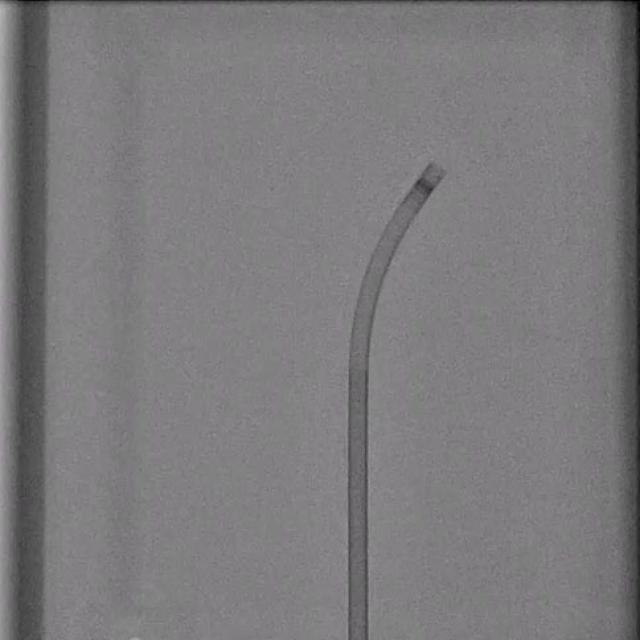bend: (350, 353, 368, 368)
entry: (347, 633, 368, 640)
marker: (415, 176, 435, 197)
tip: (433, 162, 448, 174)
